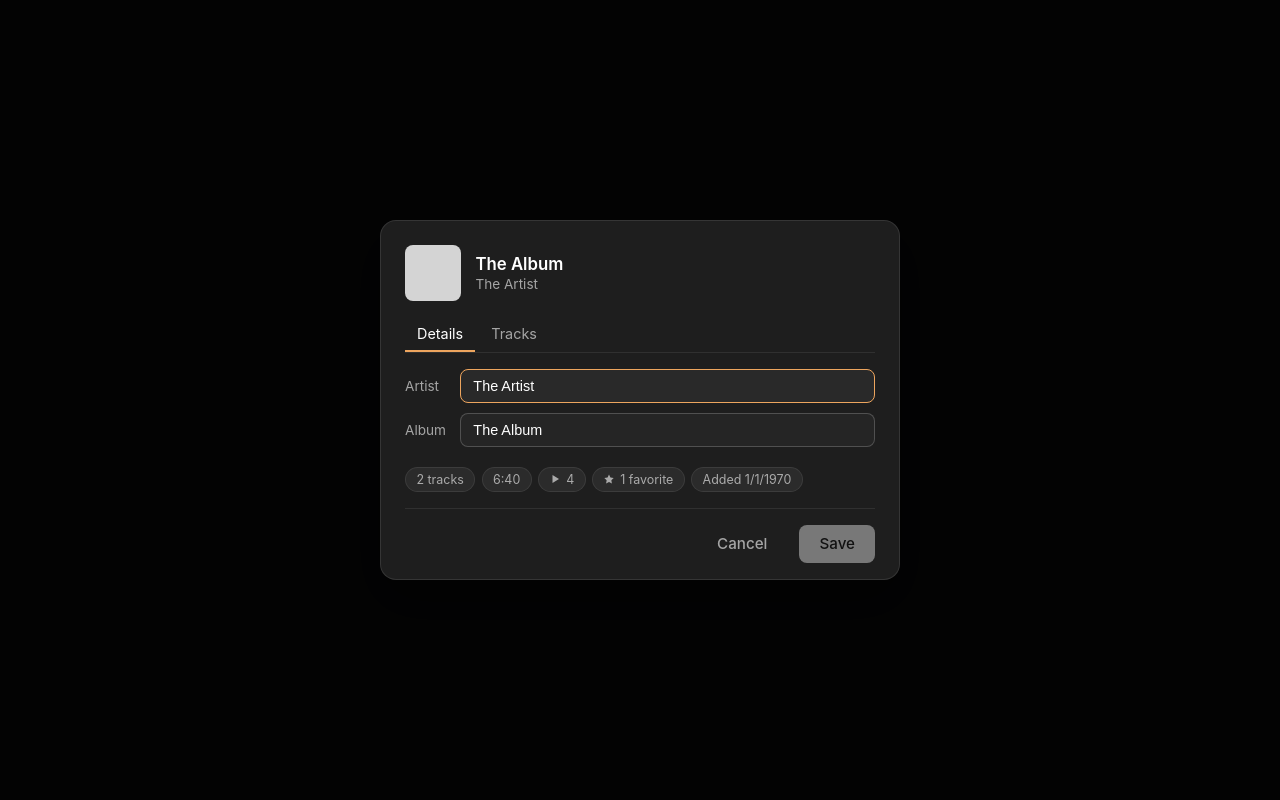
AlbumInfoModal › surfaces a partial-failure error and keeps the modal open
The image size is (1280, 800).
Replace the text in the field showing "The Album" with "New Album" at [668, 430], box [460, 413, 875, 447]
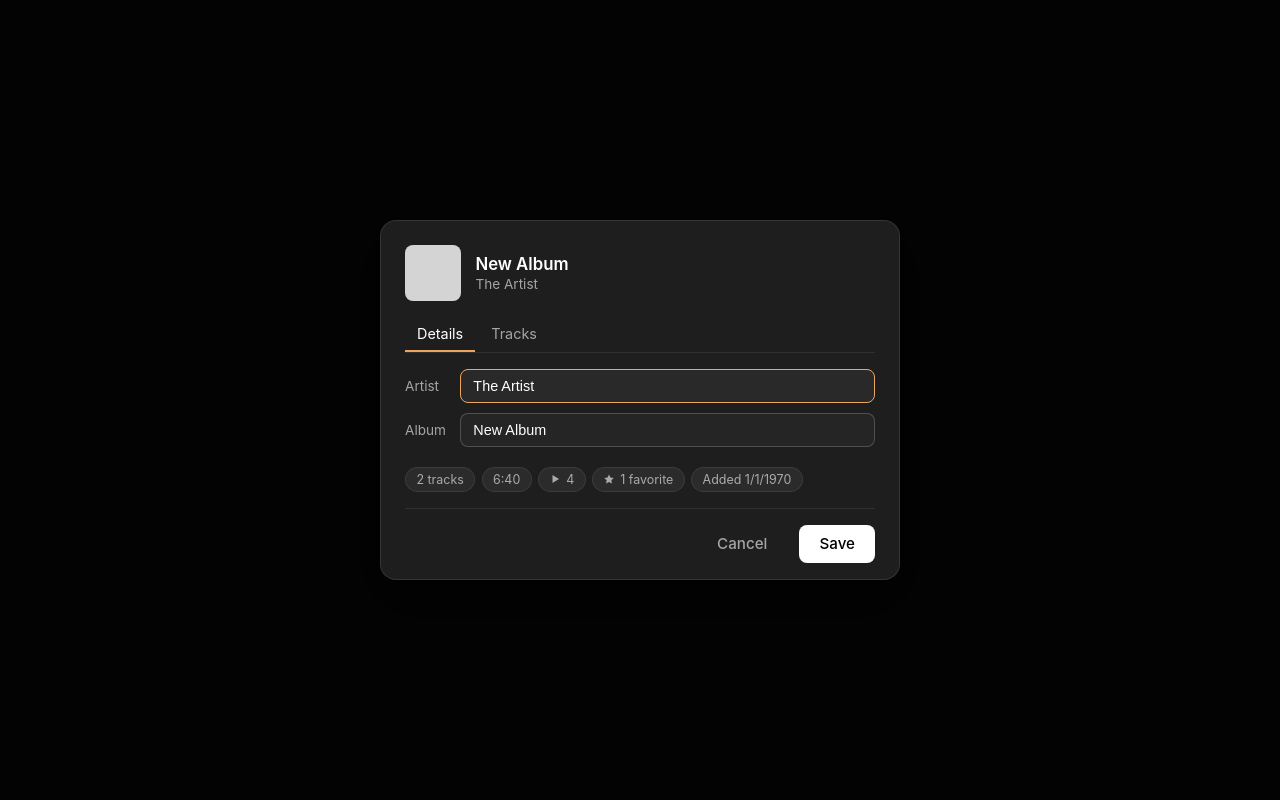
Click the button "Save" at [837, 544], box [799, 525, 875, 563]
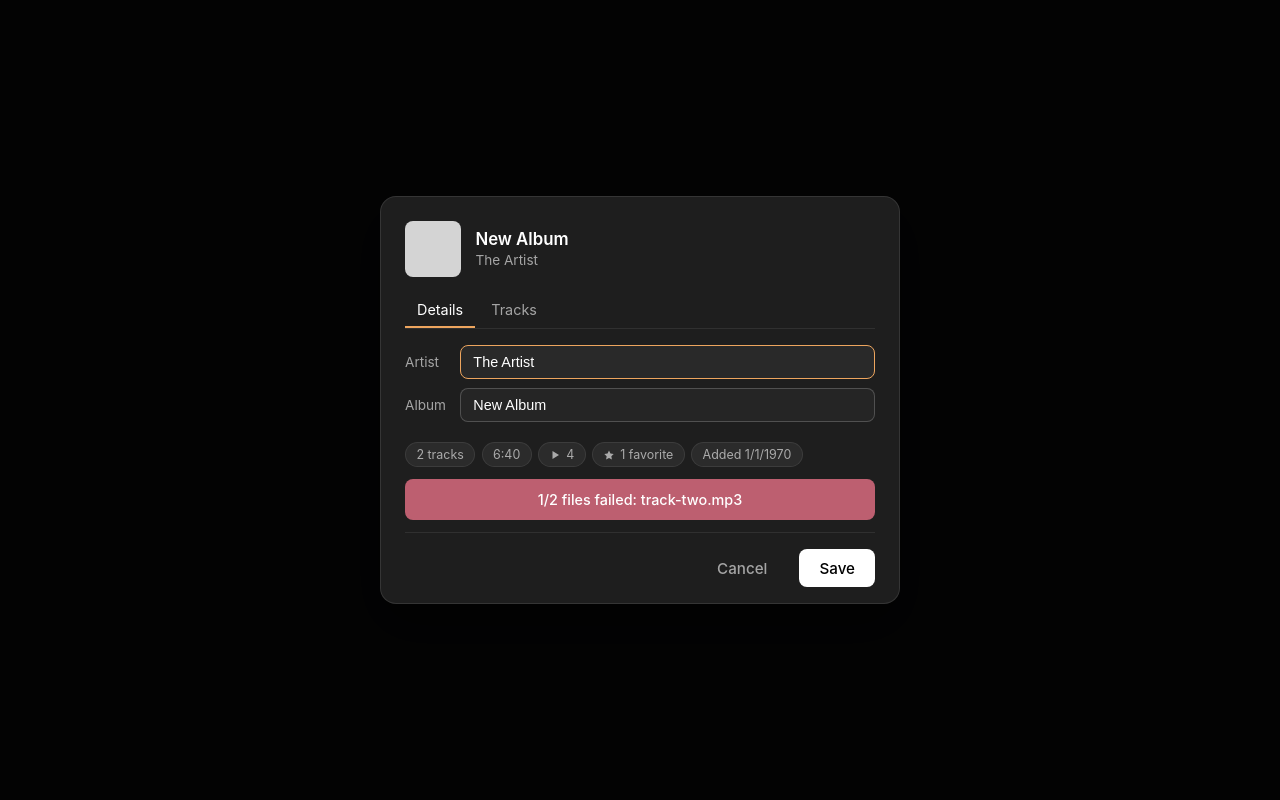
Now the text "1/2 files failed: track-two.mp3" is shown, box [405, 479, 875, 520]
